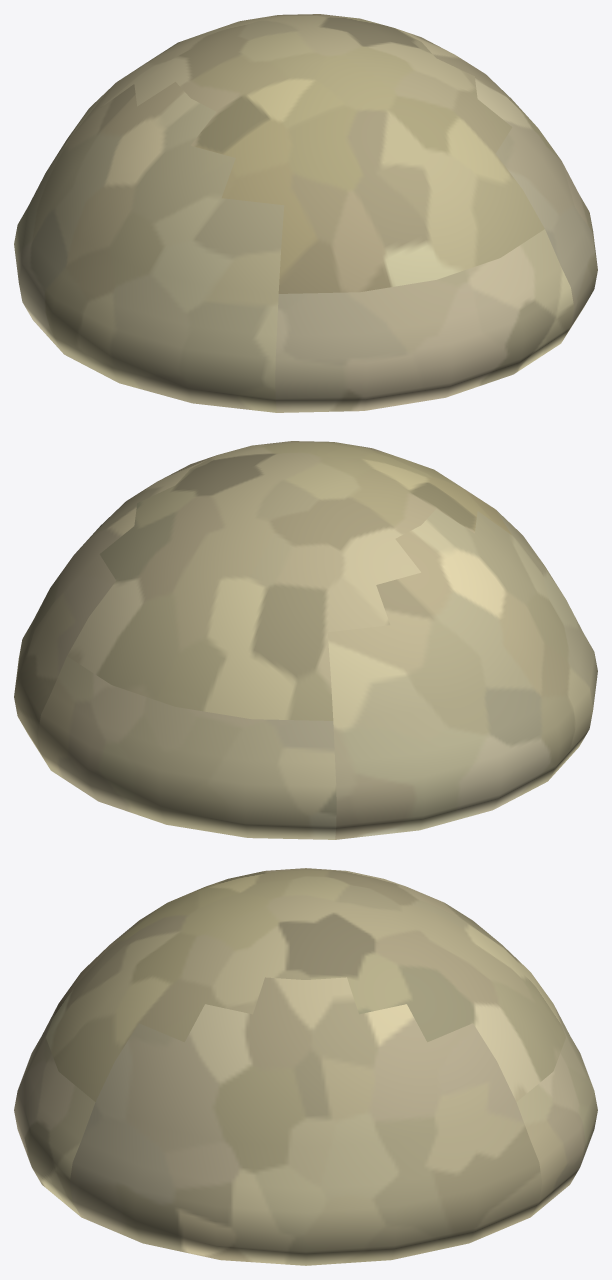
The model's file is doughballl.fbx.
The picture shows the model from 3 angles, top to bottom: view 1: azimuth 30°, elevation 25°; view 2: azimuth 150°, elevation 25°; view 3: azimuth 270°, elevation 25°; orthographic projection.
Visible parts, largest first — view 1: pSphere1; view 2: pSphere1; view 3: pSphere1.
Boxes of the visible parts, box(x1,y1,x2,y2) form: pSphere1: box(14, 14, 597, 412); pSphere1: box(14, 441, 597, 839); pSphere1: box(14, 868, 597, 1265).
Bounding box in the file's own units: 1.27 × 0.6075 × 1.27.
Materials: 1 (1 with a texture image).
